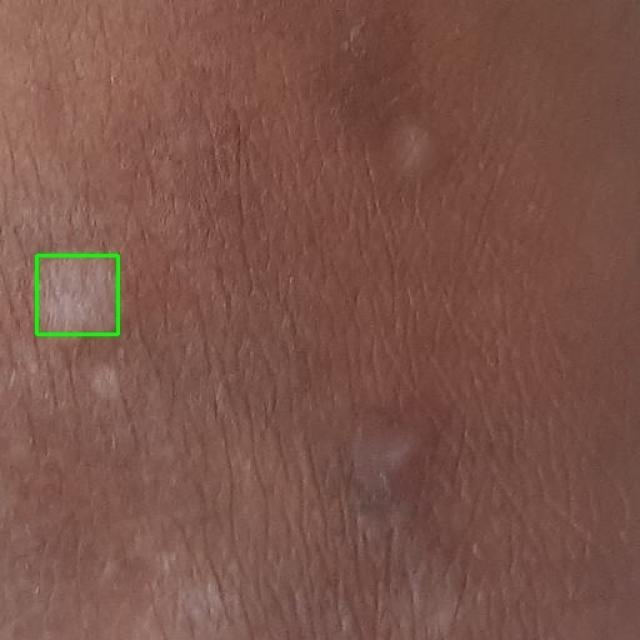Eczema: (36, 255, 118, 334)
